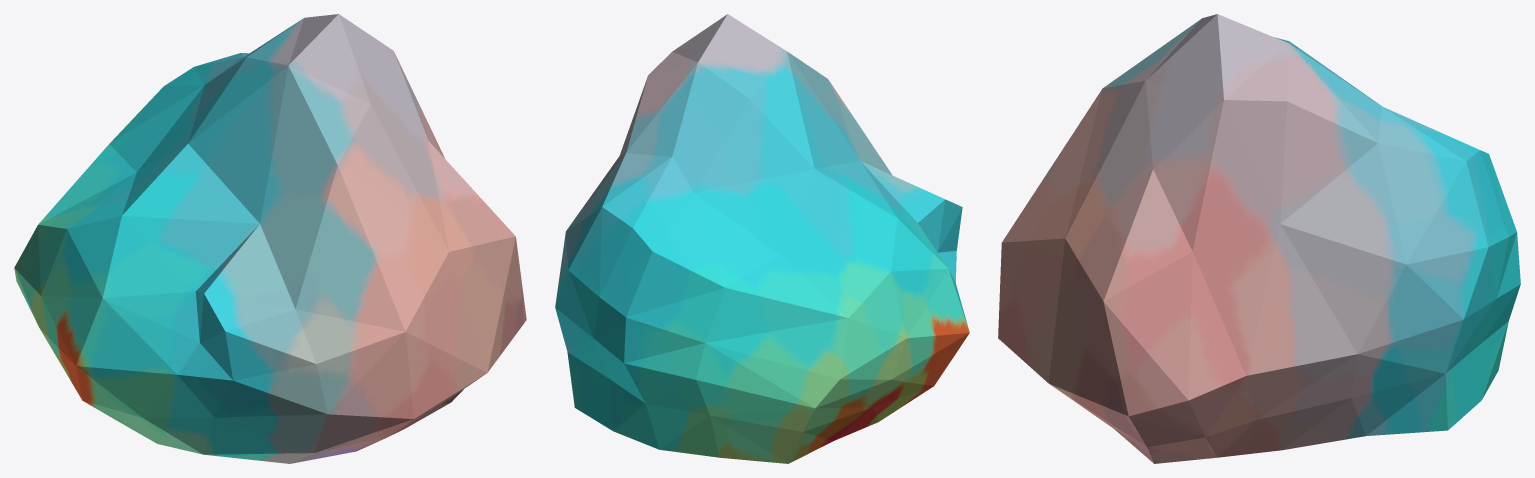
The model's file is rockMediumRoseBis.fbx.
The picture shows the model from 3 angles, left to right: view 1: azimuth 30°, elevation 25°; view 2: azimuth 150°, elevation 25°; view 3: azimuth 270°, elevation 25°; orthographic projection. The views are drawn at different scales.
Parts seen in each view (by area): view 1: rockMediumRoseBis; view 2: rockMediumRoseBis; view 3: rockMediumRoseBis.
Boxes of the visible parts, left/top/right/bottom form: rockMediumRoseBis: left=14, top=14, right=526, bottom=463; rockMediumRoseBis: left=555, top=14, right=969, bottom=463; rockMediumRoseBis: left=998, top=14, right=1520, bottom=463.
Size of the model in its own units: 1.78 by 1.7 by 1.84.
